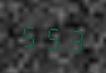five: (18, 17, 39, 51), (41, 19, 62, 53)
three: (63, 20, 84, 55)
